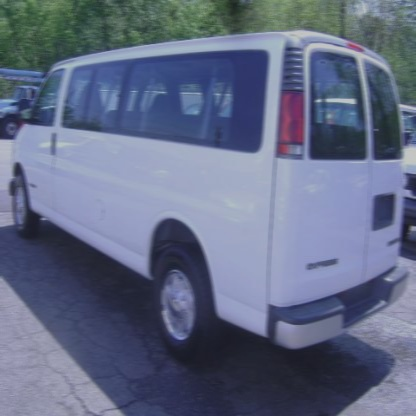Vehicle: (7, 31, 407, 370)
